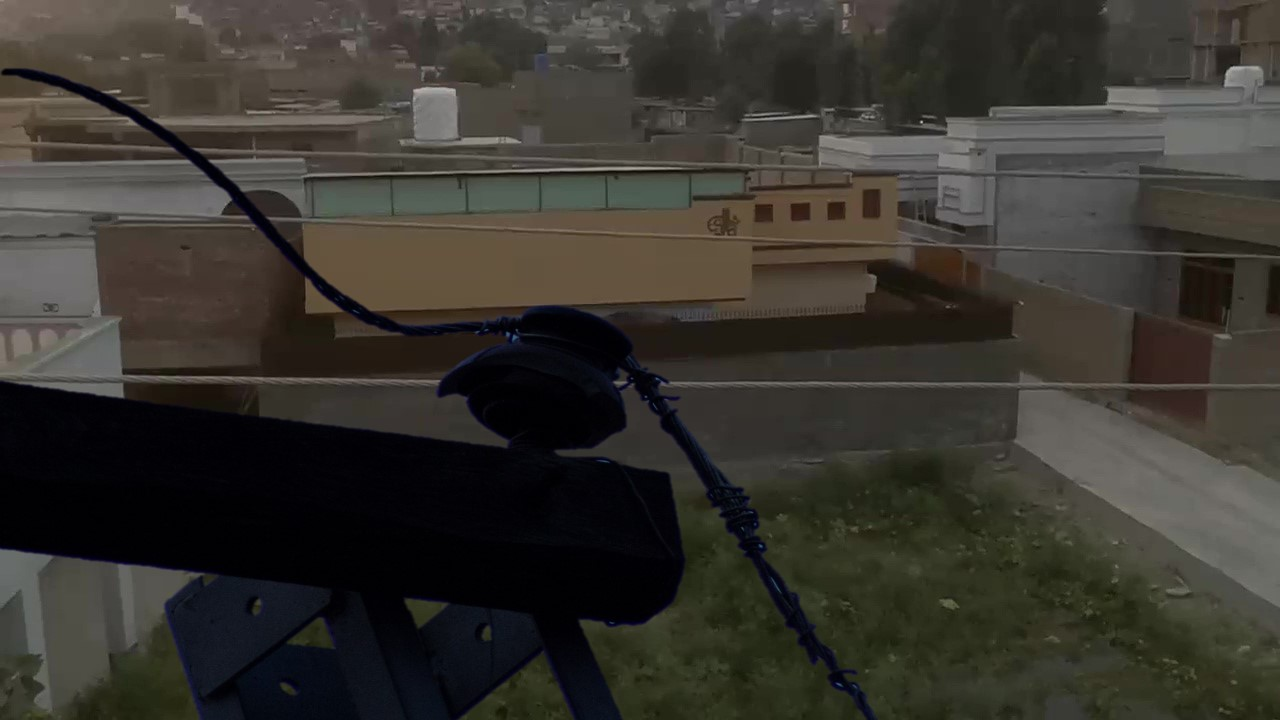defect_pin: (436, 297, 643, 455)
